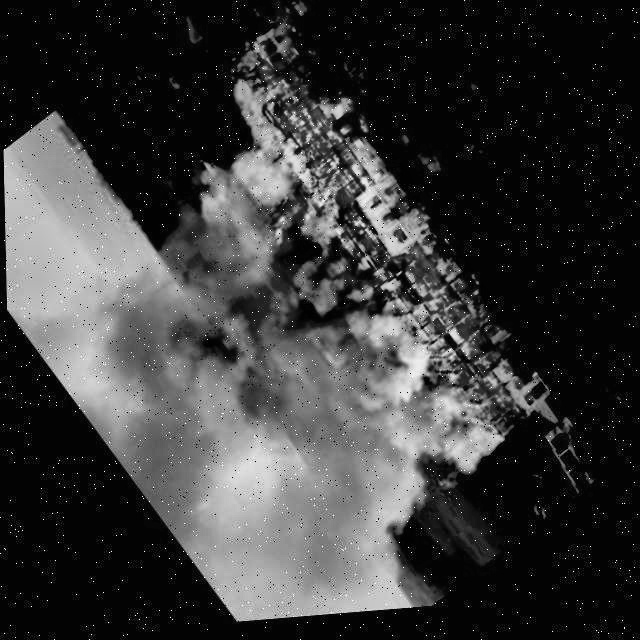Fire: (228, 1, 563, 459)
Smoke: (8, 112, 509, 640)
